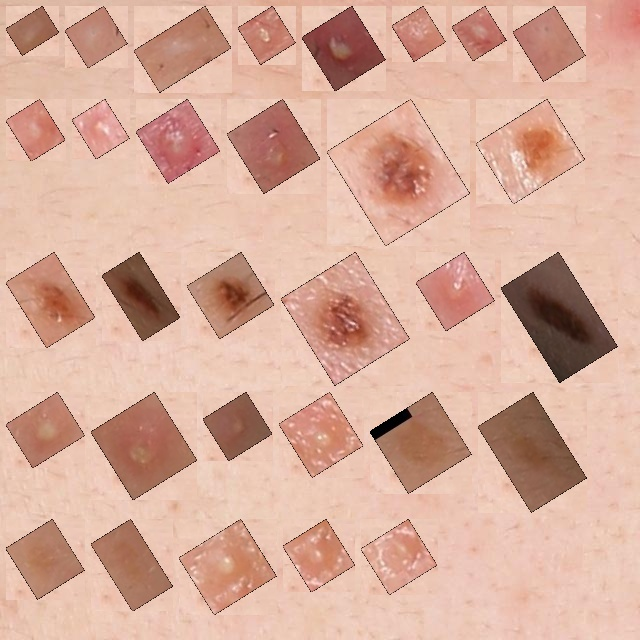hypertrophic_scar: (145, 17, 220, 81), (524, 17, 574, 70), (76, 17, 116, 57), (17, 17, 48, 44)
melasma: (489, 403, 576, 501), (381, 403, 460, 482), (102, 530, 162, 600), (17, 530, 73, 588)
nevus: (338, 110, 459, 235), (292, 263, 399, 374), (512, 263, 606, 371), (487, 110, 574, 193), (17, 263, 84, 336), (198, 263, 263, 327), (113, 263, 169, 330)
pustule: (102, 403, 186, 489), (190, 530, 265, 603), (238, 110, 309, 182), (290, 403, 352, 466), (147, 110, 209, 172), (313, 17, 374, 80), (427, 263, 484, 320), (17, 403, 74, 457), (372, 530, 426, 583), (294, 530, 344, 581), (214, 403, 261, 450), (17, 110, 54, 150), (83, 110, 118, 148), (249, 17, 285, 53), (403, 17, 435, 50), (463, 17, 495, 50)
